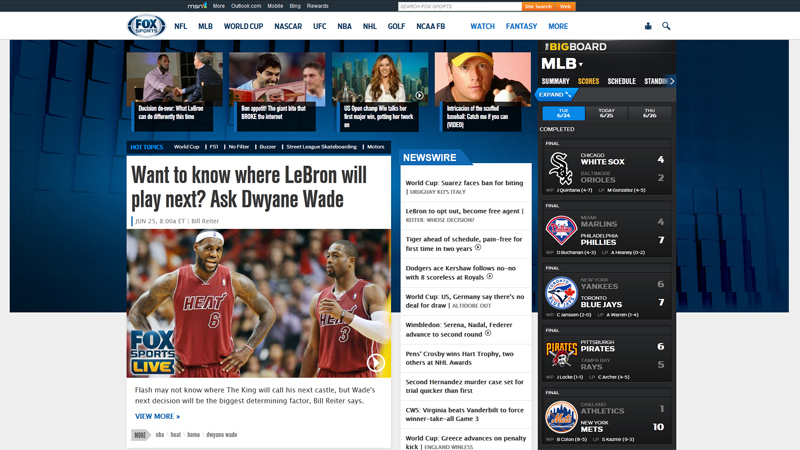Button: (523, 1, 555, 11), (555, 2, 576, 11)
Menu Bar: (169, 14, 577, 38)
Side Bar: (539, 41, 676, 450), (400, 163, 532, 445)
Text Field: (398, 2, 522, 13)
